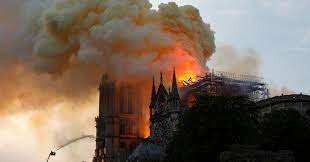smoke: (2, 3, 220, 132)
